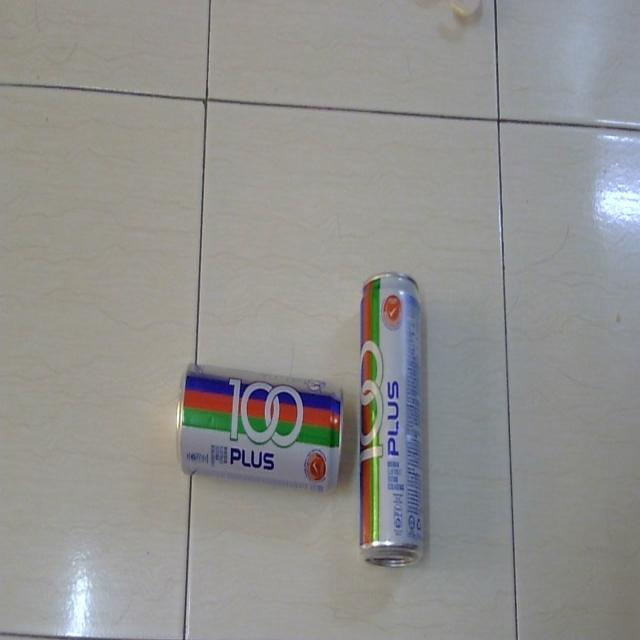metal_laydown_0rotation: (169, 347, 346, 509)
metal_laydown_90rotation: (354, 263, 438, 578)
